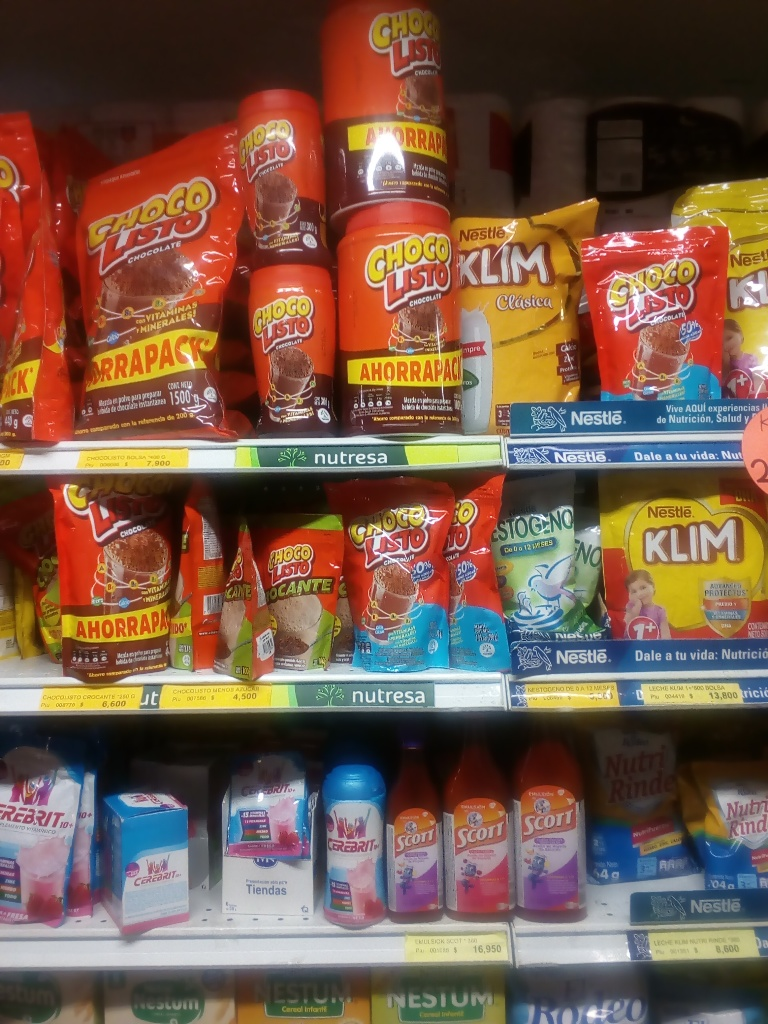COL0170102DYP10000: (220, 512, 272, 680)
COL0170103DYP1,500: (79, 119, 249, 441)
COL0170103DYP44000: (41, 477, 169, 682)
COL0170103TRR00100: (324, 7, 461, 217)
COL0170103TRR30000: (240, 88, 323, 266)
COL0170104DYP20000: (326, 483, 452, 673)
